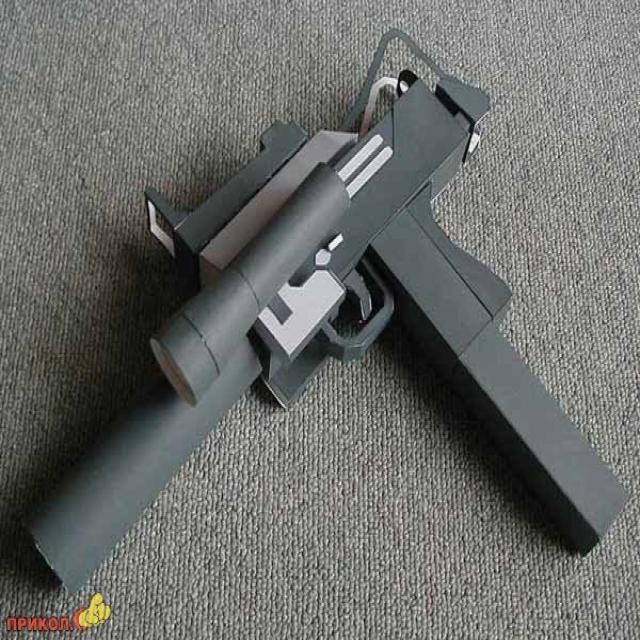firearm: (15, 21, 632, 601)
